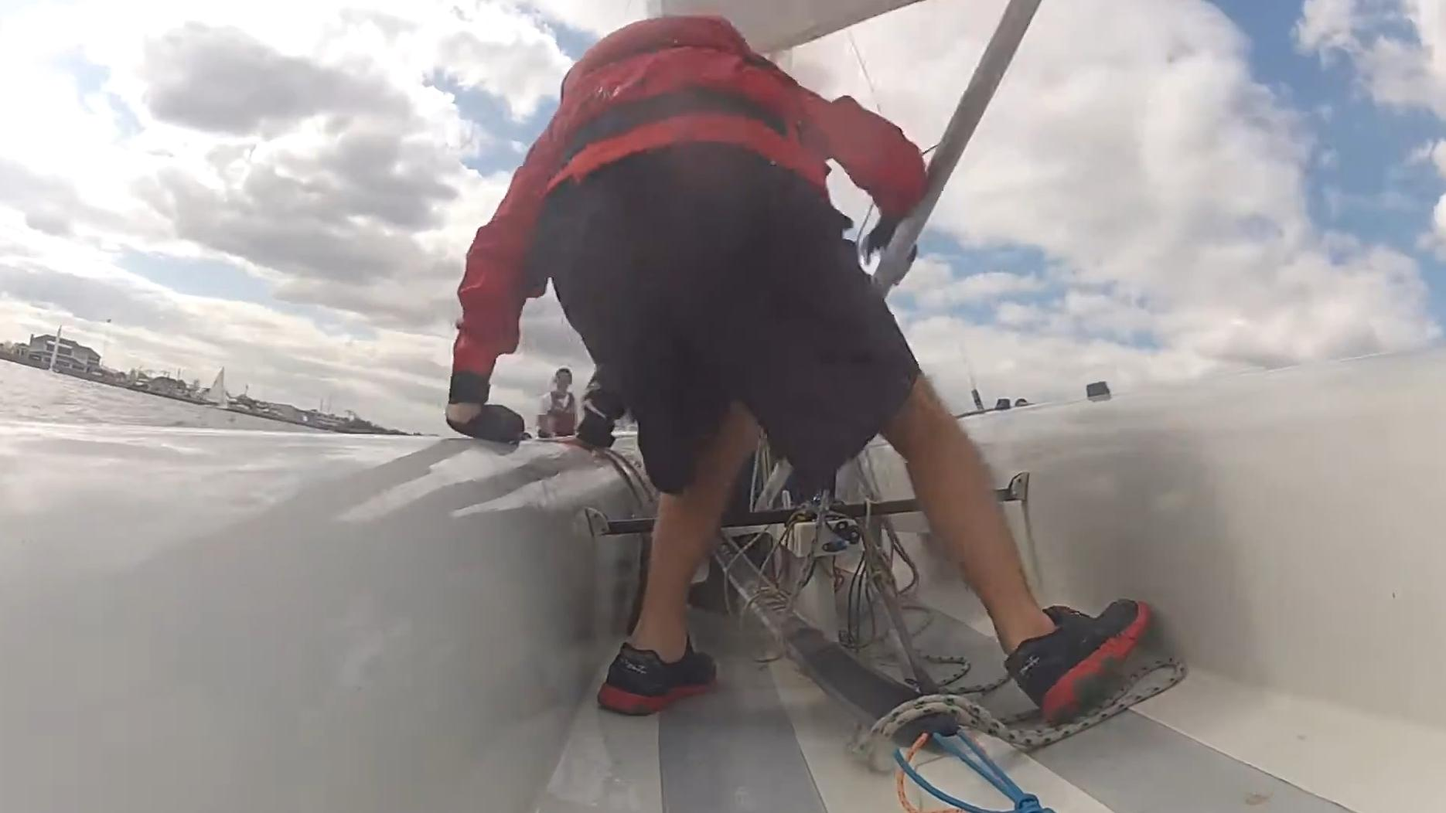land: (0, 333, 371, 435)
person: (446, 13, 1150, 714)
sea: (0, 359, 323, 434)
sky: (0, 0, 1017, 438), (888, 0, 1446, 416), (493, 298, 596, 439)
